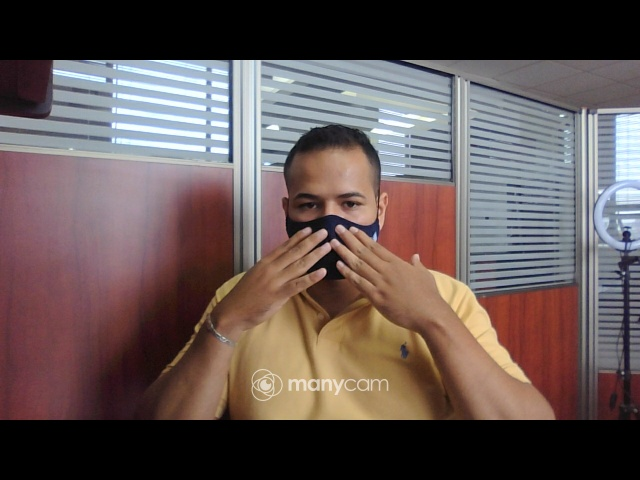Thanks: (228, 222, 464, 337)
